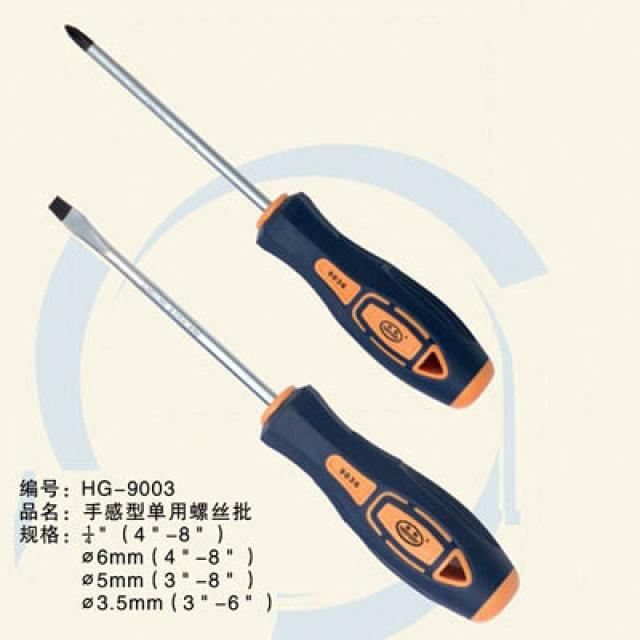screw_driver: (43, 193, 528, 628), (61, 13, 504, 418)
